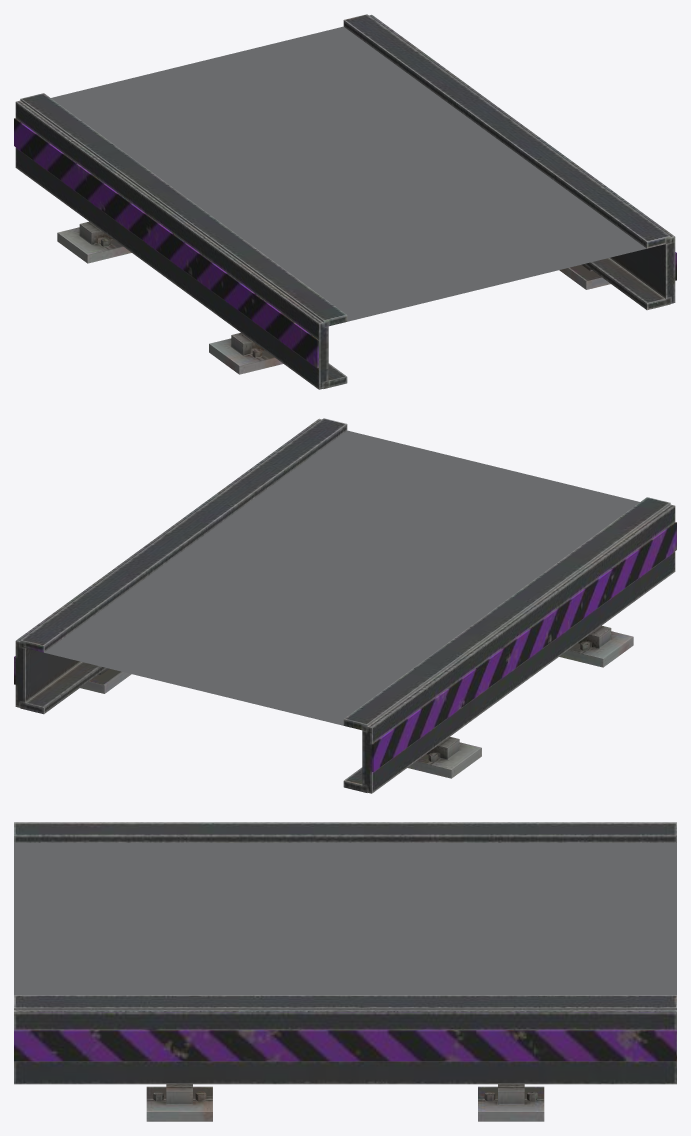
File: esteira_reta_quantica.glb
The picture shows the model from 3 angles, top to bottom: view 1: azimuth 30°, elevation 25°; view 2: azimuth 150°, elevation 25°; view 3: azimuth 270°, elevation 25°; orthographic projection. The views are drawn at different scales.
Parts seen in each view (by area): view 1: esteira_reta_quantica_corpo; view 2: esteira_reta_quantica_corpo; view 3: esteira_reta_quantica_corpo.
Part boxes in pixels (box(x1,y1,x2,y2)): esteira_reta_quantica_corpo: box(14, 14, 676, 389); esteira_reta_quantica_corpo: box(14, 418, 676, 793); esteira_reta_quantica_corpo: box(14, 822, 676, 1121).
Bounding box in the file's own units: 0.75 × 0.168 × 1.
2 materials, 1 textured.
